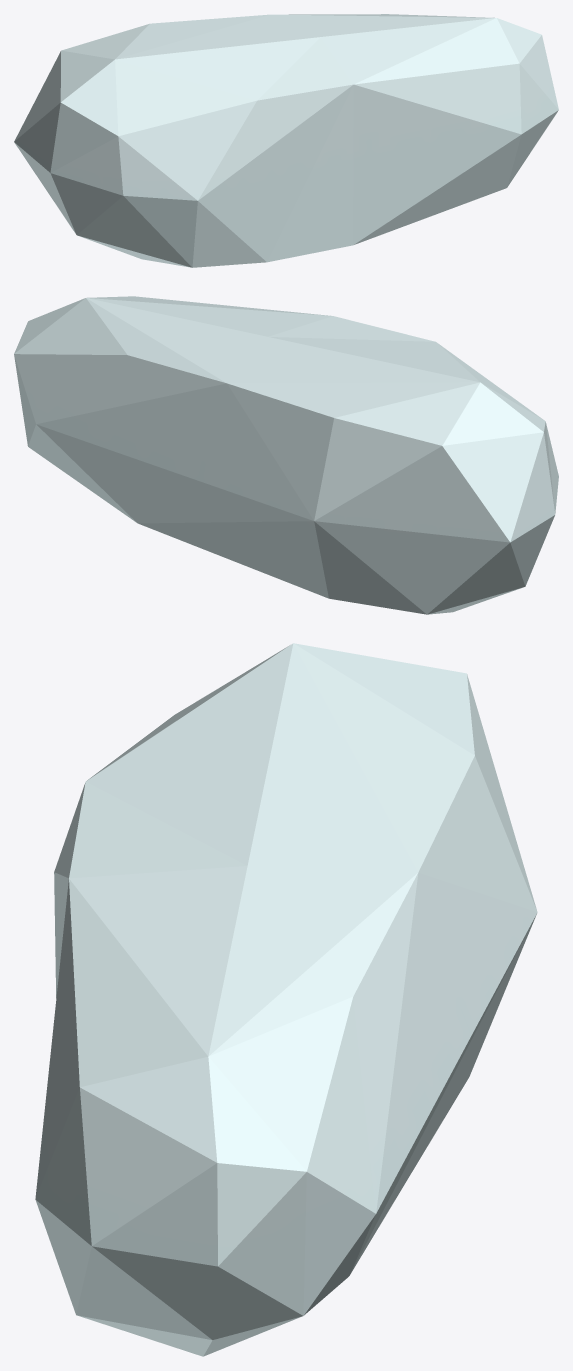
The model's file is Jungle_Clouds_Sml_C.fbx.
3 renders of one model, top to bottom at view 1: azimuth 30°, elevation 25°; view 2: azimuth 150°, elevation 25°; view 3: azimuth 270°, elevation 25°, orthographic. The views are drawn at different scales.
Parts seen in each view (by area): view 1: Jungle_Clouds_Sml_C; view 2: Jungle_Clouds_Sml_C; view 3: Jungle_Clouds_Sml_C.
Boxes of the visible parts, x1,y1,x2,y2 form: Jungle_Clouds_Sml_C: (14,14,558,267); Jungle_Clouds_Sml_C: (14,296,558,614); Jungle_Clouds_Sml_C: (35,643,537,1356).
Bounding box in the file's own units: 211 × 91.31 × 95.35.
